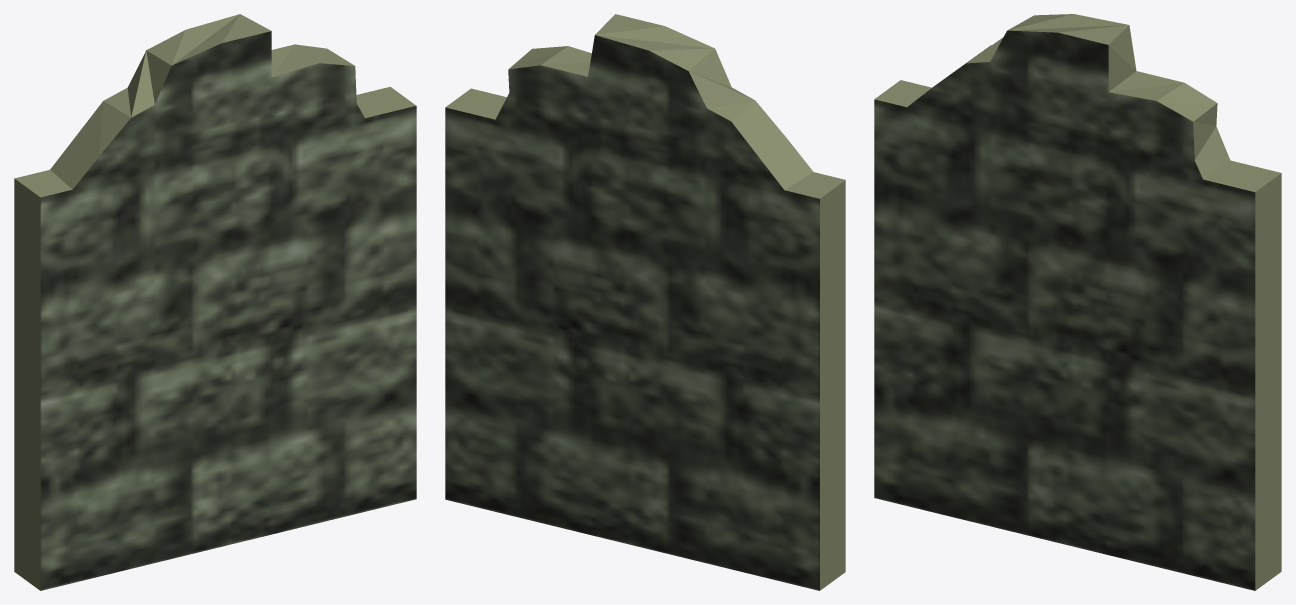
The model's file is ruins_grid_02_1.glb.
3 renders of one model, left to right at view 1: azimuth 30°, elevation 25°; view 2: azimuth 150°, elevation 25°; view 3: azimuth 330°, elevation 25°, orthographic.
Parts seen in each view (by area): view 1: ruins_grid_02_1; view 2: ruins_grid_02_1; view 3: ruins_grid_02_1.
Boxes of the visible parts, x1,y1,x2,y2 form: ruins_grid_02_1: (14, 14, 416, 590); ruins_grid_02_1: (445, 14, 845, 590); ruins_grid_02_1: (874, 14, 1281, 590).
Size of the model in its own units: 2 by 2.56 by 0.24.
2 materials, 1 textured.
